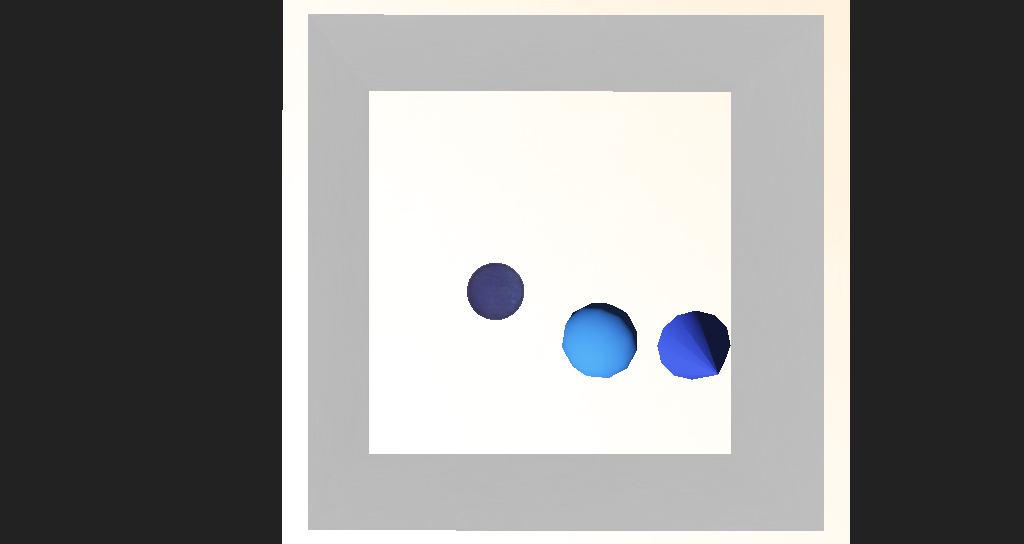cone: (431, 265, 485, 298)
cylinder: (593, 291, 674, 348)
sphere: (512, 289, 579, 332)
